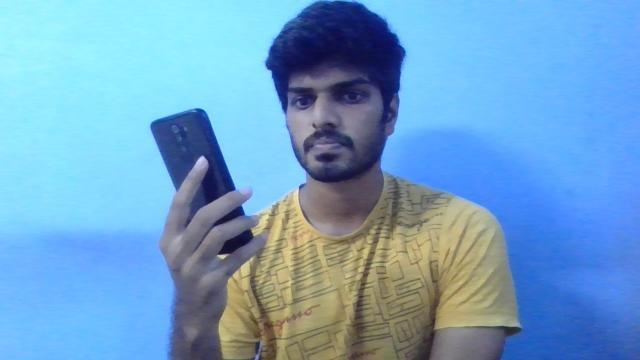PhoneUse: (144, 108, 253, 256)
SafeDriving: (282, 80, 322, 112), (332, 83, 376, 107)
